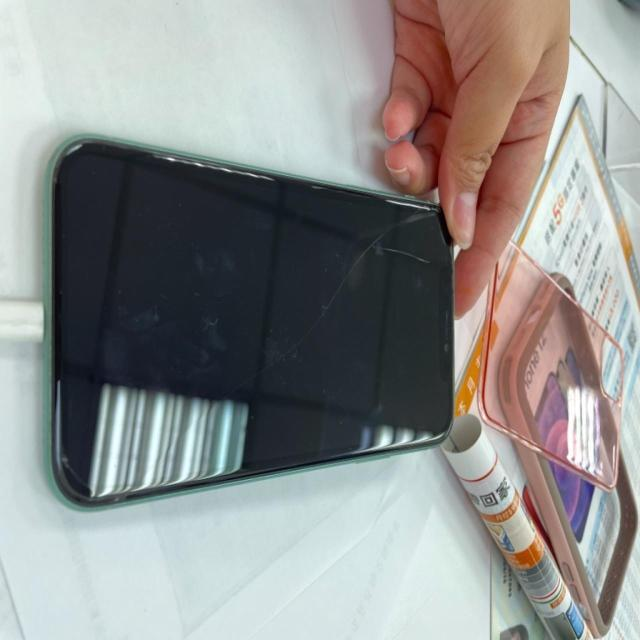Scratches: (227, 290, 374, 386), (334, 220, 440, 278)
